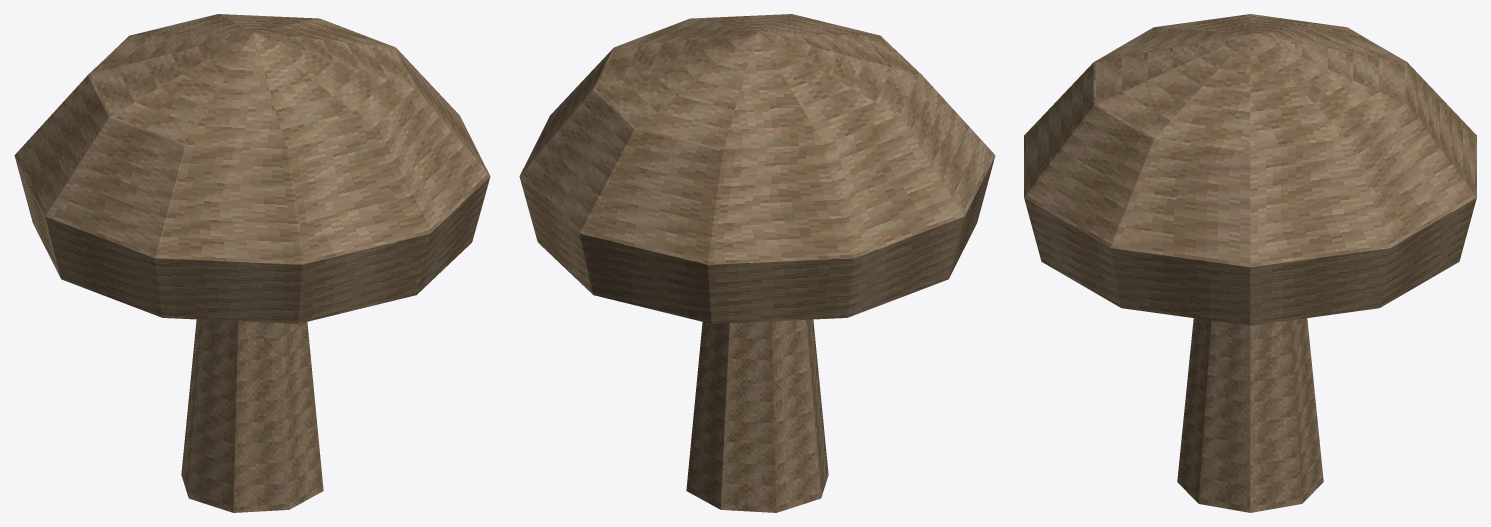
File: cogumelo_seco.glb
The picture shows the model from 3 angles, left to right: view 1: azimuth 30°, elevation 25°; view 2: azimuth 150°, elevation 25°; view 3: azimuth 270°, elevation 25°; orthographic projection.
Parts seen in each view (by area): view 1: cogumelo_seco; view 2: cogumelo_seco; view 3: cogumelo_seco.
Boxes of the visible parts, x1,y1,x2,y2 form: cogumelo_seco: (14,14,490,512); cogumelo_seco: (519,14,995,512); cogumelo_seco: (1024,14,1476,512).
Size of the model in its own units: 0.442 by 0.459 by 0.4204.
Materials: 1 (1 with a texture image).
